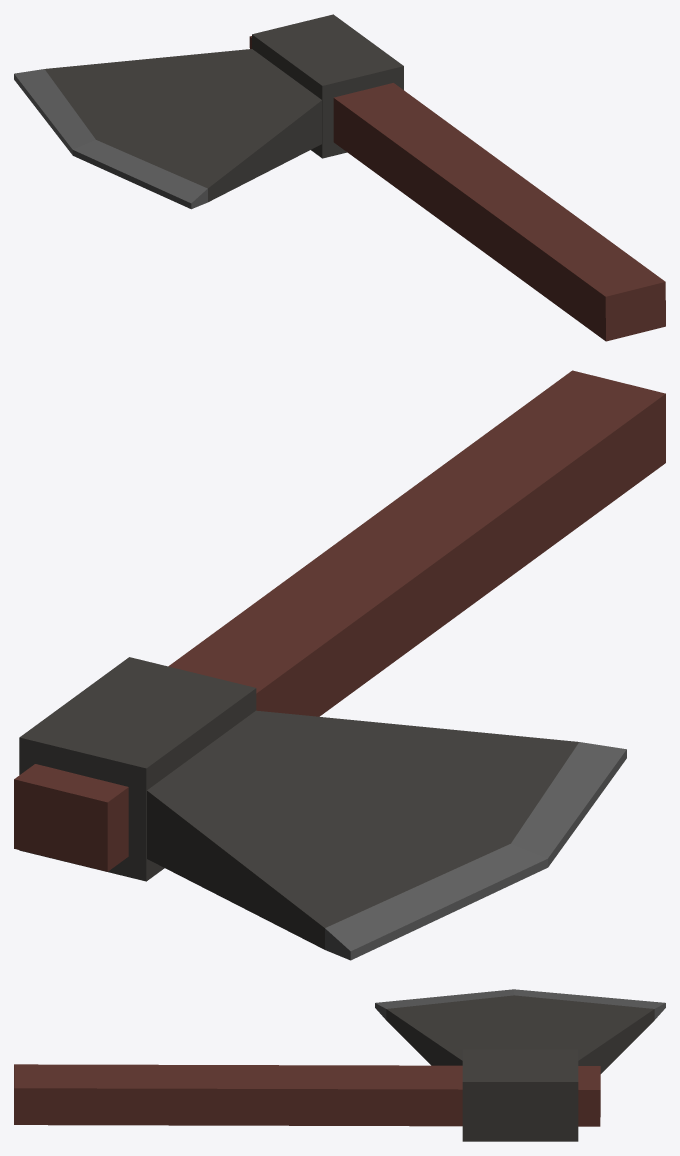
The model's file is axe.fbx.
3 views of the same model, one above another, from view 1: azimuth 30°, elevation 25°; view 2: azimuth 150°, elevation 25°; view 3: azimuth 270°, elevation 25° (orthographic). The views are drawn at different scales.
Parts seen in each view (by area): view 1: axe; view 2: axe; view 3: axe.
Boxes of the visible parts, left/top/right/bottom form: axe: left=14, top=14, right=665, bottom=341; axe: left=14, top=370, right=665, bottom=960; axe: left=14, top=989, right=665, bottom=1141.
Bounding box in the file's own units: 17.77 × 4.11 × 40.75.
